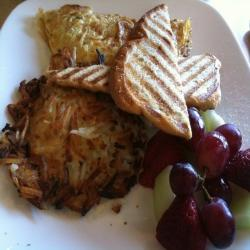bread: (105, 5, 203, 141)
omelette: (34, 4, 204, 65)
